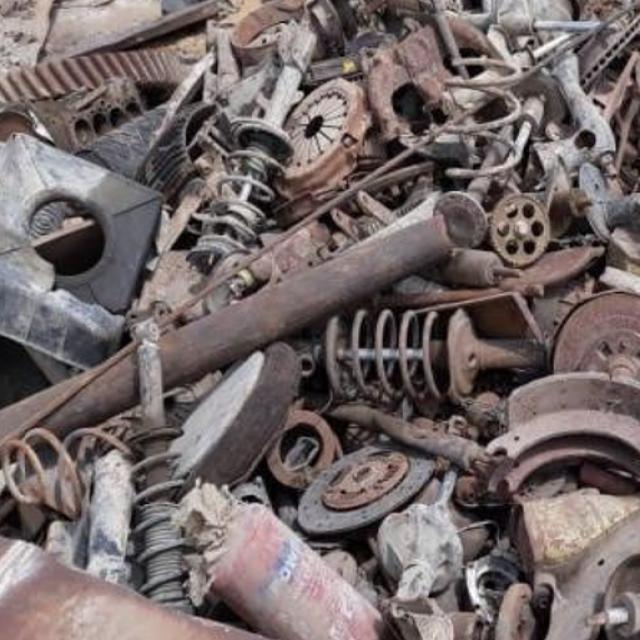shock absorber: (183, 22, 318, 274), (325, 308, 547, 404), (124, 322, 195, 615)
